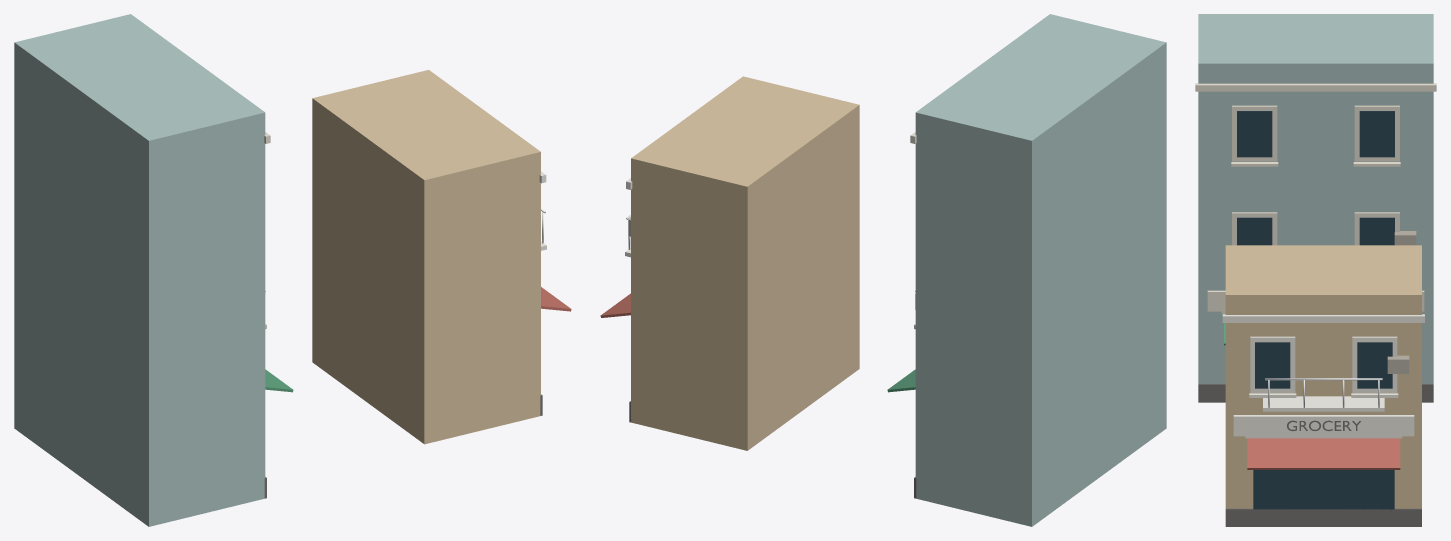
File: shophouses.glb
The picture shows the model from 3 angles, left to right: view 1: azimuth 30°, elevation 25°; view 2: azimuth 150°, elevation 25°; view 3: azimuth 270°, elevation 25°; orthographic projection. The views are drawn at different scales.
Visible parts, largest first — view 1: Shophouse_Teal_Body.001, Shophouse_Ochre_Body.001, Shophouse_Teal_Parapet.001, Shophouse_Ochre_Parapet.001; view 2: Shophouse_Teal_Body.001, Shophouse_Ochre_Body.001, Shophouse_Teal_Parapet.001, Shophouse_Ochre_Parapet.001; view 3: Shophouse_Teal_Body.001, Shophouse_Teal_Parapet.001, Shophouse_Ochre_Body.001, Shophouse_Ochre_Parapet.001, Shophouse_Ochre_ShopGlass.001, Shophouse_Ochre_Awning.001, Shophouse_Ochre_SignBand.001, Shophouse_Ochre_Grime.001, Shophouse_Teal_Cornice.001, Shophouse_Ochre_Balcony.001, Shophouse_Teal_Window.006, Shophouse_Teal_Window.007 (+18 smaller).
Boxes of the visible parts, x1,y1,x2,y2 form: Shophouse_Teal_Body.001: [14, 63, 265, 526]; Shophouse_Ochre_Body.001: [312, 119, 540, 444]; Shophouse_Teal_Parapet.001: [14, 14, 265, 160]; Shophouse_Ochre_Parapet.001: [312, 70, 540, 200]; Shophouse_Teal_Body.001: [915, 63, 1166, 526]; Shophouse_Ochre_Body.001: [631, 125, 859, 450]; Shophouse_Teal_Parapet.001: [915, 14, 1166, 160]; Shophouse_Ochre_Parapet.001: [631, 76, 859, 206]; Shophouse_Teal_Body.001: [1198, 81, 1433, 383]; Shophouse_Teal_Parapet.001: [1198, 14, 1433, 81]; Shophouse_Ochre_Body.001: [1225, 312, 1421, 508]; Shophouse_Ochre_Parapet.001: [1225, 245, 1421, 312]; Shophouse_Ochre_ShopGlass.001: [1253, 470, 1394, 510]; Shophouse_Ochre_Awning.001: [1247, 438, 1400, 469]; Shophouse_Ochre_SignBand.001: [1233, 415, 1414, 436]; Shophouse_Ochre_Grime.001: [1225, 508, 1421, 526]; Shophouse_Teal_Cornice.001: [1195, 83, 1436, 91]; Shophouse_Ochre_Balcony.001: [1263, 396, 1384, 411]; Shophouse_Teal_Window.006: [1237, 111, 1272, 157]; Shophouse_Teal_Window.007: [1359, 111, 1394, 157].
Bounding box in the file's own units: 11.61 × 9.5 × 6.15.
